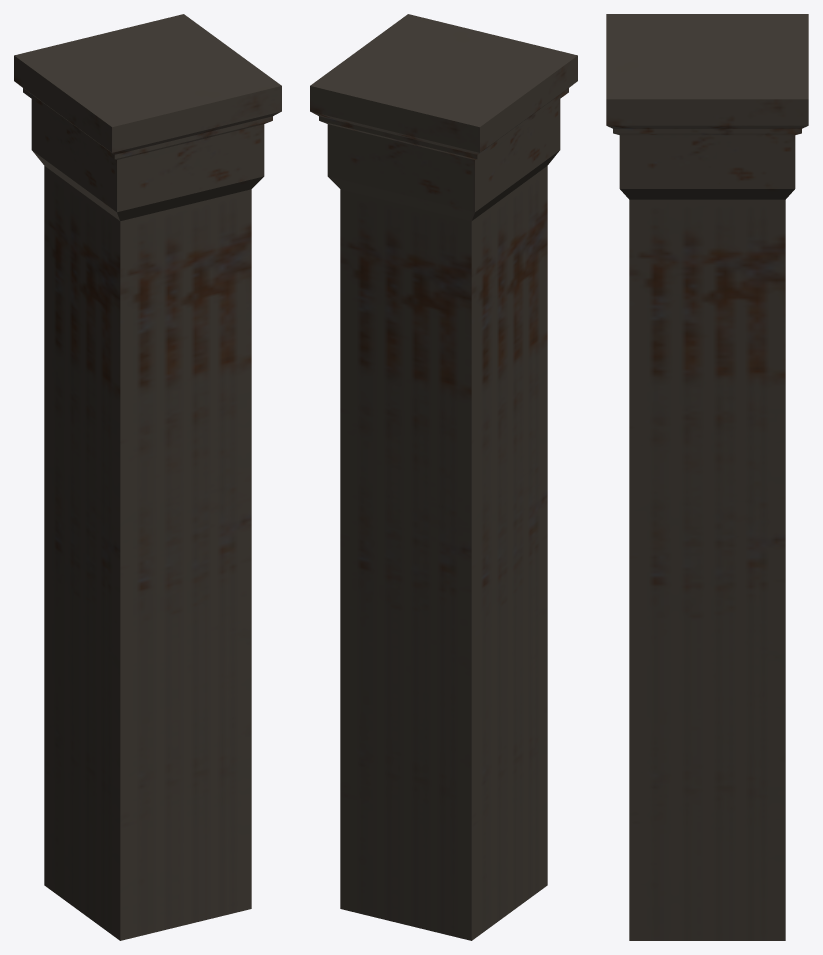
The model's file is metal_column_top.glb.
3 views of the same model, side by side, from view 1: azimuth 30°, elevation 25°; view 2: azimuth 150°, elevation 25°; view 3: azimuth 270°, elevation 25° (orthographic). The views are drawn at different scales.
Parts seen in each view (by area): view 1: Metal_Column_Top; view 2: Metal_Column_Top; view 3: Metal_Column_Top.
Part boxes in pixels (box(x1,y1,x2,y2)): Metal_Column_Top: box(14, 14, 281, 940); Metal_Column_Top: box(310, 14, 577, 940); Metal_Column_Top: box(606, 14, 808, 940).
Size of the model in its own units: 0.6441 by 3 by 0.6446.
1 material, 1 textured.
